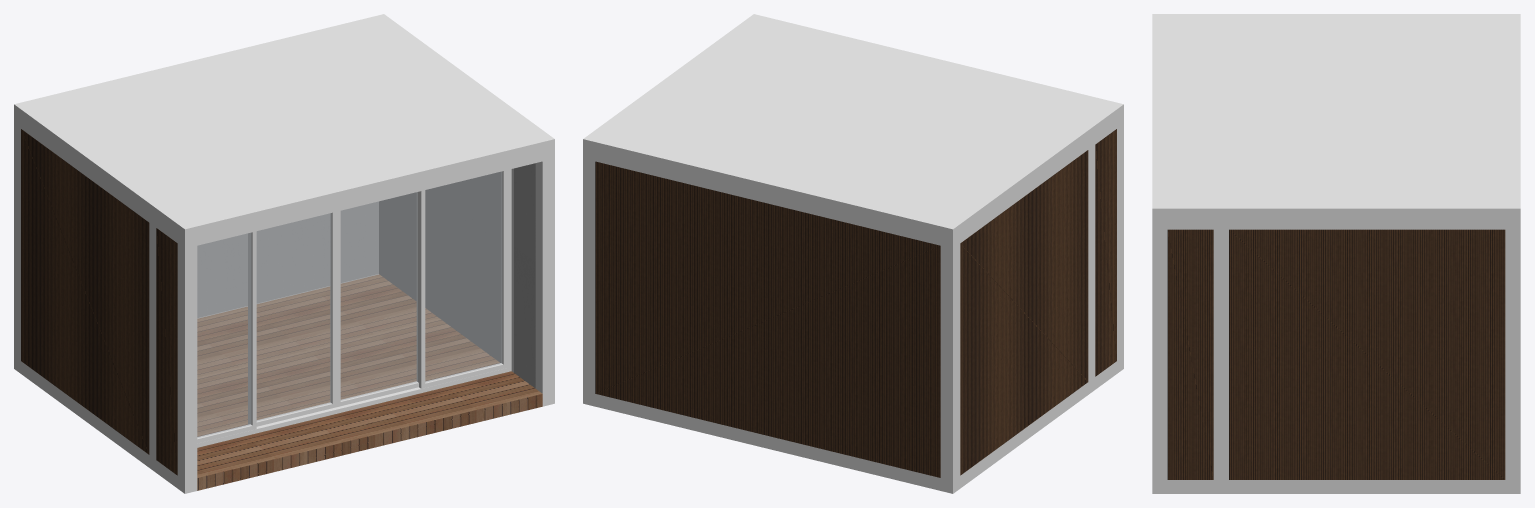
The model's file is tipo c-2.glb.
3 renders of one model, left to right at view 1: azimuth 30°, elevation 25°; view 2: azimuth 150°, elevation 25°; view 3: azimuth 270°, elevation 25°, orthographic. The views are drawn at different scales.
Parts seen in each view (by area): view 1: frame (×16), Geom3D (×3), deck2, exteriorwall (×2), interiorwall (×3), GLASS, deck; view 2: exteriorwall (×3), frame (×9); view 3: frame (×6), exteriorwall (×2).
Boxes of the visible parts, x1=… form: frame (×16): x1=14, y1=14, x2=554, y2=493; Geom3D (×3): x1=197, y1=171, x2=502, y2=437; deck2: x1=197, y1=274, x2=542, y2=477; exteriorwall (×2): x1=21, y1=129, x2=177, y2=475; interiorwall (×3): x1=197, y1=163, x2=535, y2=388; GLASS: x1=257, y1=213, x2=331, y2=420; deck: x1=197, y1=394, x2=542, y2=490; exteriorwall (×3): x1=595, y1=129, x2=1116, y2=477; frame (×9): x1=583, y1=14, x2=1123, y2=493; frame (×6): x1=1152, y1=14, x2=1520, y2=493; exteriorwall (×2): x1=1167, y1=229, x2=1505, y2=479.
Size of the model in its own units: 116 by 79.35 by 92.9.
Materials: 52 (13 with a texture image).
